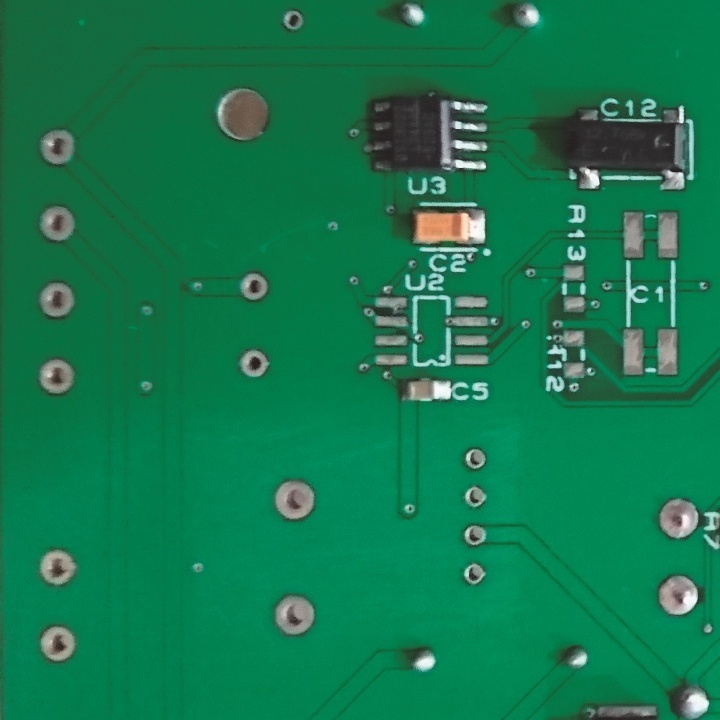F: (270, 477, 319, 526), (271, 592, 319, 638), (655, 571, 701, 618), (657, 495, 701, 540), (36, 203, 79, 246), (35, 624, 79, 664), (37, 127, 78, 169), (38, 548, 79, 589), (36, 358, 78, 398), (37, 280, 78, 320), (237, 347, 273, 379), (239, 269, 270, 304), (461, 557, 487, 589), (459, 521, 490, 547), (463, 483, 489, 511), (279, 8, 307, 33), (463, 445, 488, 472)
